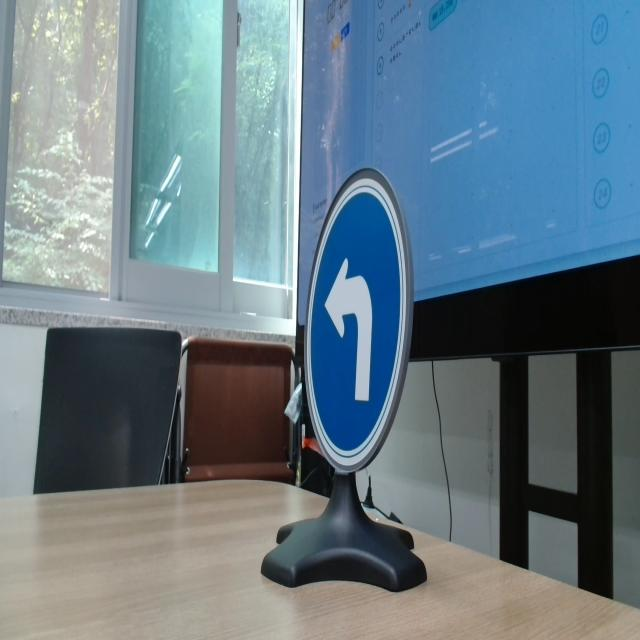left_direction: (300, 162, 414, 479)
